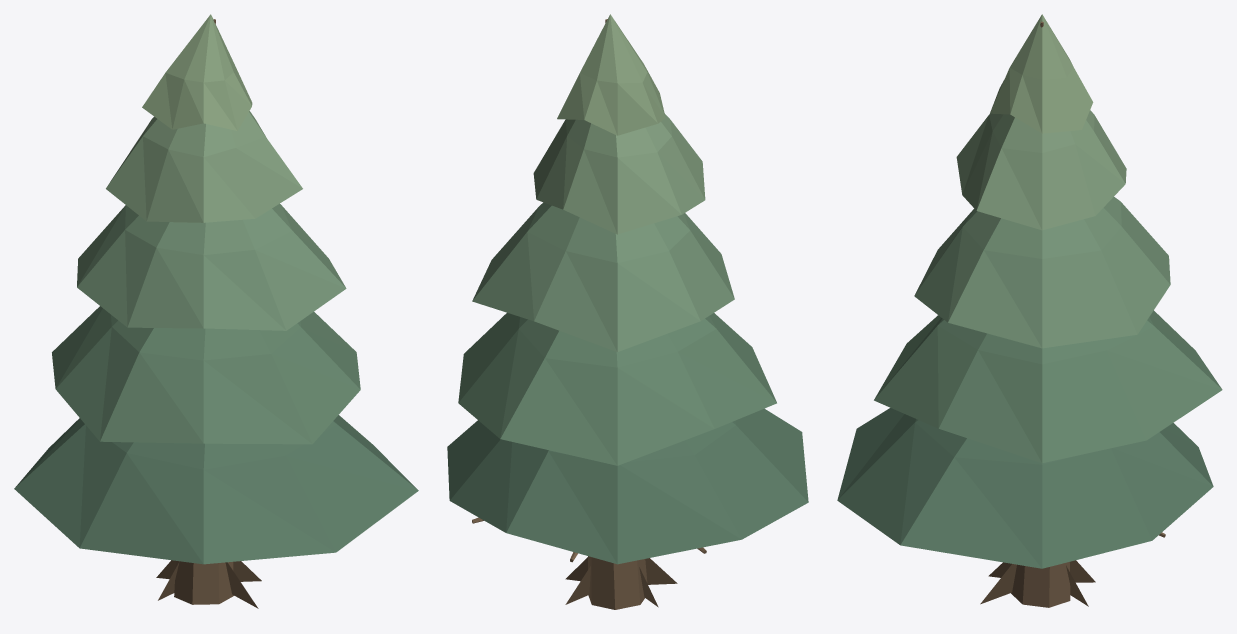
File: pine.glb
The picture shows the model from 3 angles, left to right: view 1: azimuth 30°, elevation 25°; view 2: azimuth 150°, elevation 25°; view 3: azimuth 270°, elevation 25°; orthographic projection.
Parts seen in each view (by area): view 1: foliage-0, foliage-1, foliage-2, surface; view 2: foliage-0, foliage-1, foliage-2, surface; view 3: foliage-0, foliage-1, foliage-2, surface.
Boxes of the visible parts, <box> form: foliage-0: <box>14,111,418,564</box>; foliage-1: <box>52,14,360,444</box>; foliage-2: <box>77,203,346,330</box>; surface: <box>156,19,261,608</box>; foliage-0: <box>447,113,808,564</box>; foliage-1: <box>458,14,776,465</box>; foliage-2: <box>472,202,734,351</box>; surface: <box>472,19,706,609</box>; foliage-0: <box>837,110,1213,568</box>; foliage-1: <box>874,14,1222,463</box>; foliage-2: <box>914,197,1170,348</box>; surface: <box>980,21,1165,607</box>.
Size of the model in its own units: 3.65 by 6.18 by 3.69.
